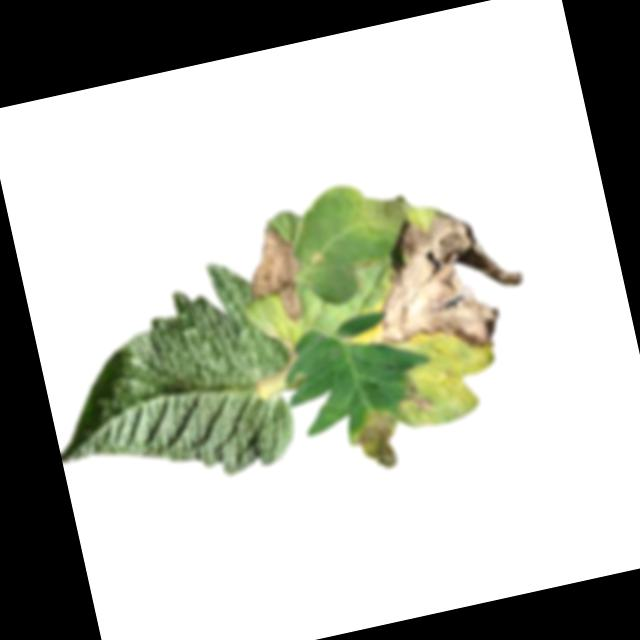Late_blight: (351, 197, 536, 370), (239, 220, 314, 332), (343, 402, 407, 474), (365, 191, 412, 239), (396, 368, 436, 417), (283, 371, 307, 392)
